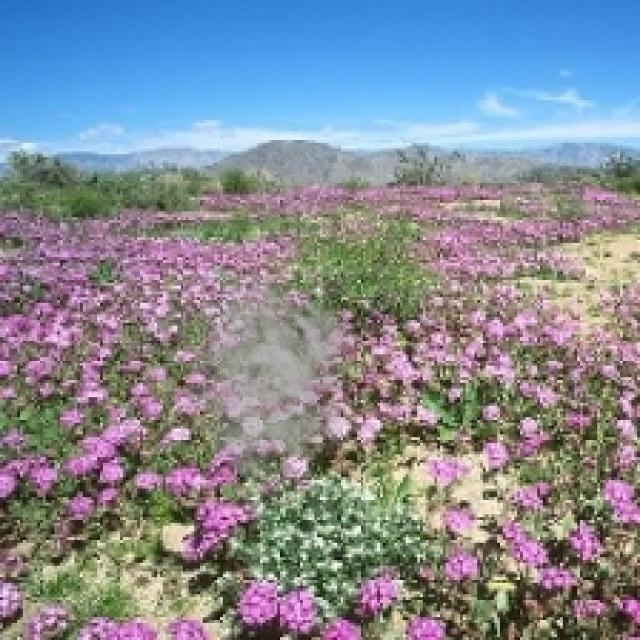smoke: (174, 263, 383, 494)
